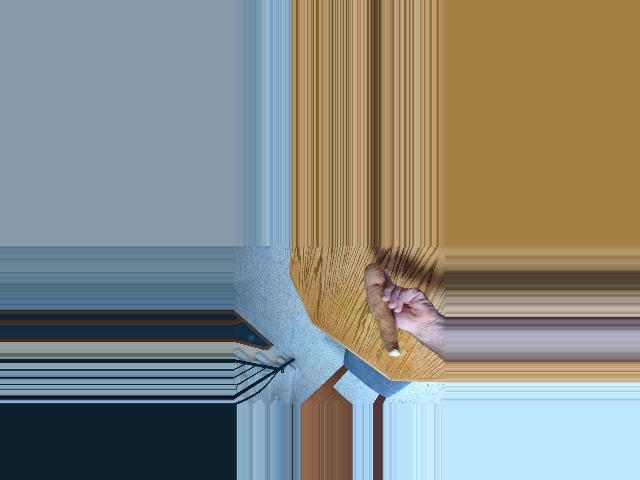sweet_potato: (358, 267, 402, 359)
